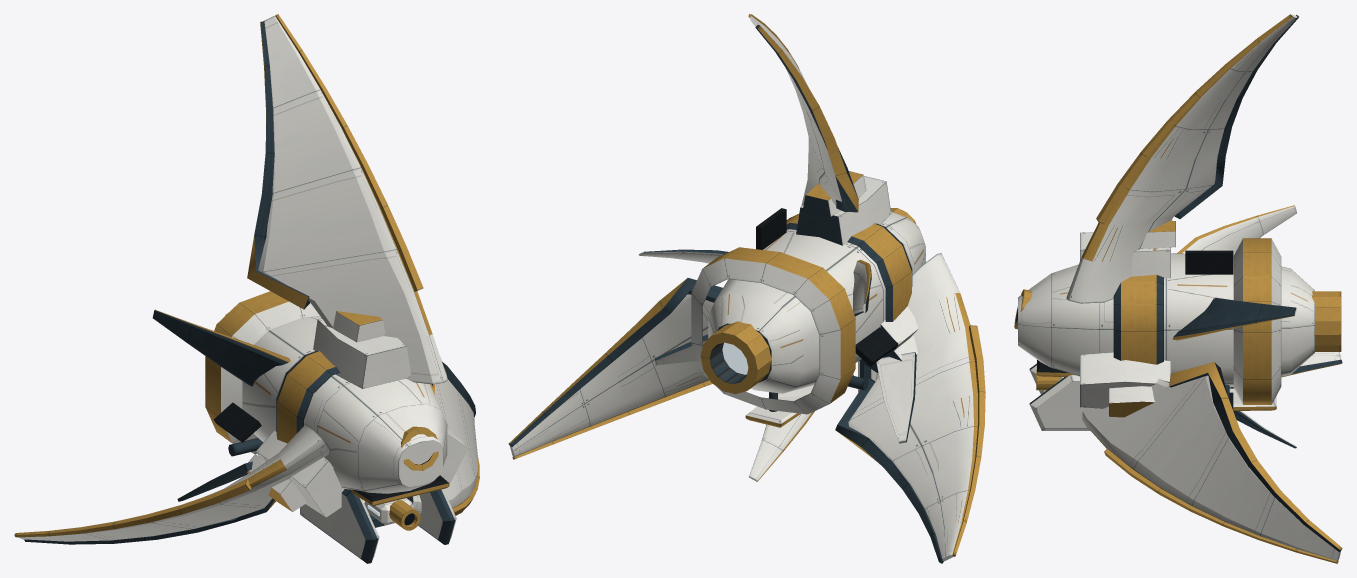
File: juno-europa-l10-laser.glb
The picture shows the model from 3 angles, left to right: view 1: azimuth 30°, elevation 25°; view 2: azimuth 150°, elevation 25°; view 3: azimuth 270°, elevation 25°; orthographic projection. The views are drawn at different scales.
Visible parts, largest first — view 1: Drone; view 2: Drone; view 3: Drone.
Boxes of the visible parts, box(x1,y1,x2,y2) form: Drone: box(14, 14, 479, 563); Drone: box(508, 14, 985, 563); Drone: box(1014, 14, 1342, 563).
Size of the model in its own units: 2.89 by 2.97 by 1.95.
3 materials, 3 textured.
